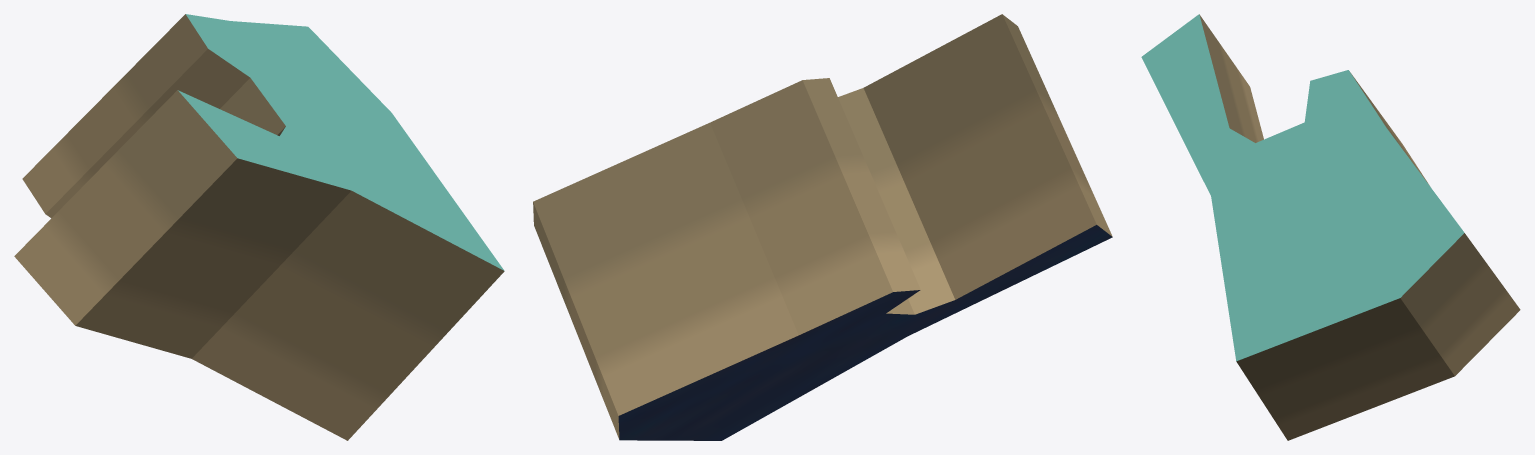
Rendered from 0639_Eritrea.glb.
3 views of the same model, side by side, from view 1: azimuth 30°, elevation 25°; view 2: azimuth 150°, elevation 25°; view 3: azimuth 270°, elevation 25° (orthographic). The views are drawn at different scales.
Parts seen in each view (by area): view 1: part_0; view 2: part_0; view 3: part_0.
Part boxes in pixels (x1,y1,x2,y2): part_0: [14, 14, 504, 440]; part_0: [533, 14, 1112, 440]; part_0: [1141, 14, 1520, 440].
Size of the model in its own units: 0.4627 by 0.4125 by 0.4145.
1 material, 1 textured.
